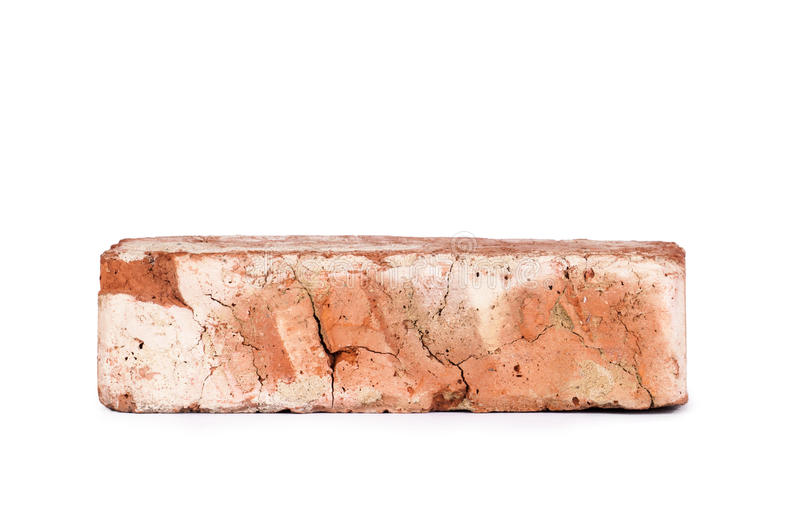brick: (101, 255, 687, 410)
